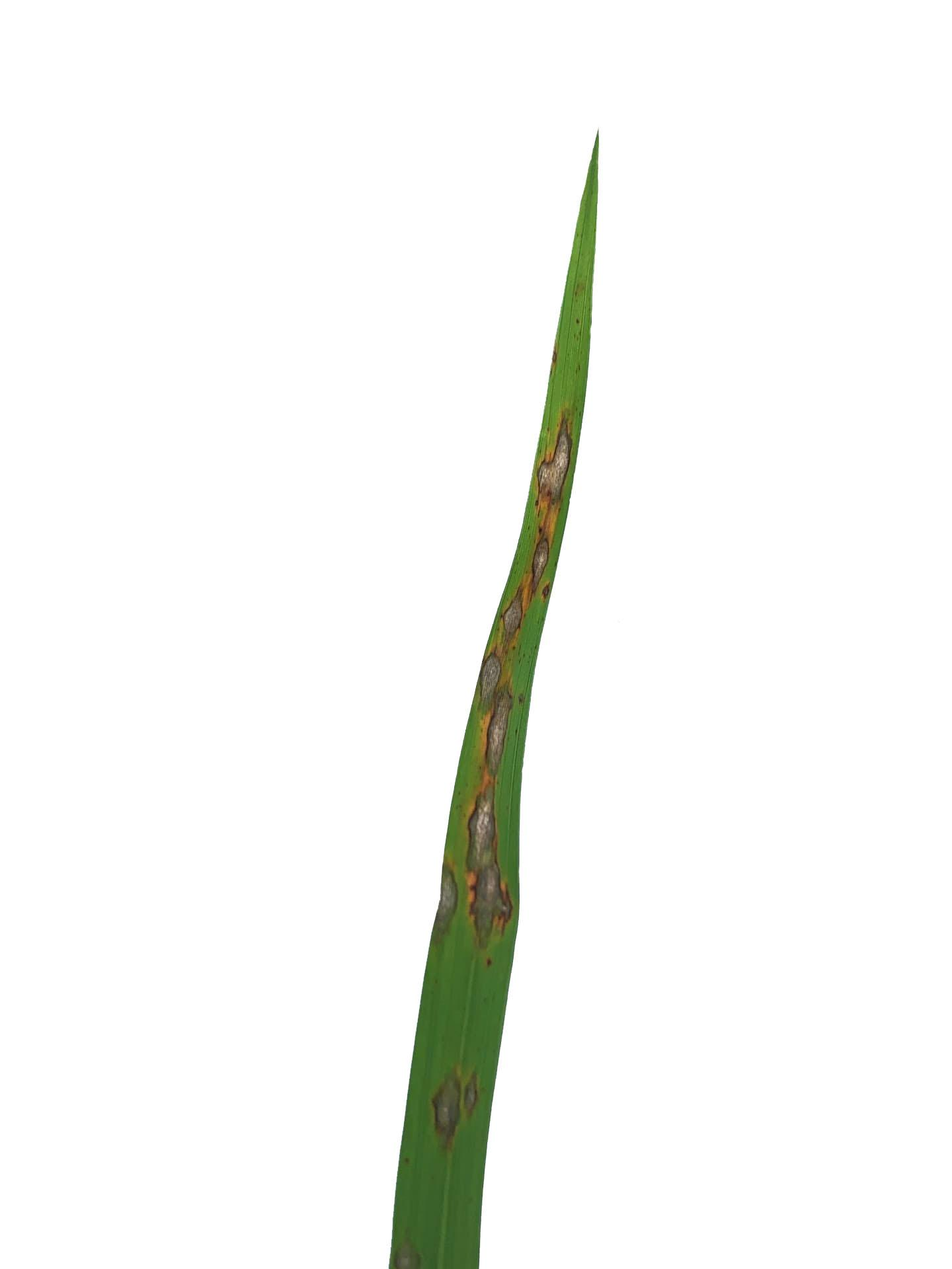Rice blast: (466, 778, 514, 947), (428, 1061, 481, 1168), (531, 409, 579, 516), (478, 686, 513, 791), (498, 580, 527, 653), (440, 866, 463, 940), (476, 649, 502, 713), (528, 527, 549, 598)
